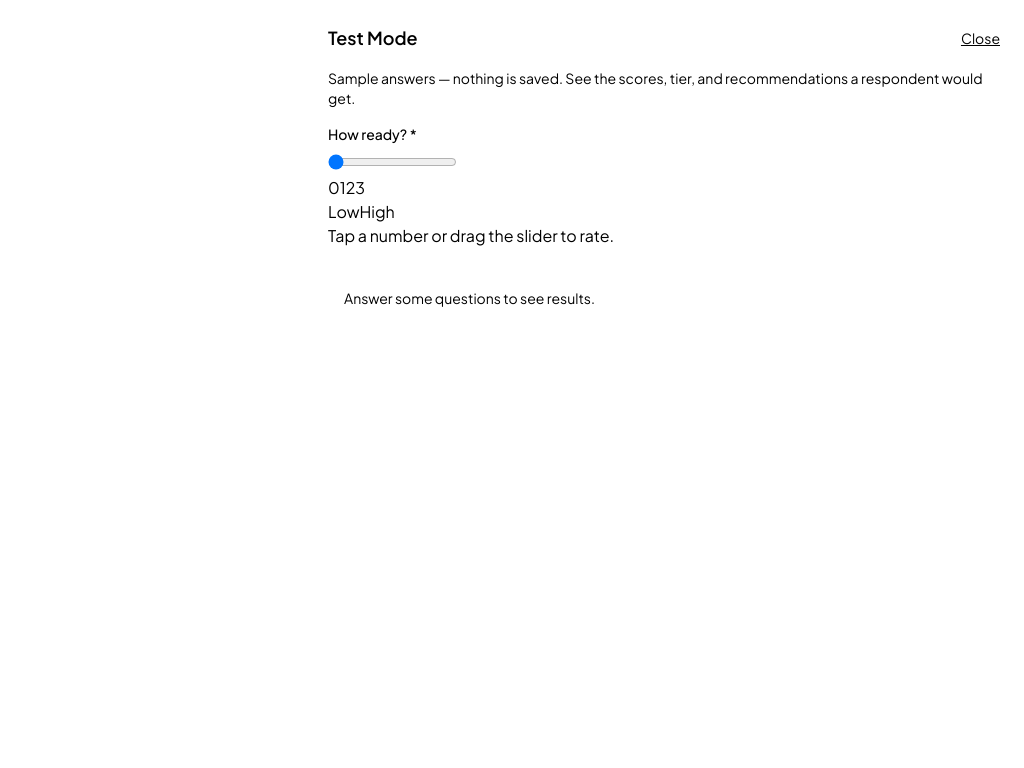
it: TestModeDrawer › renders the scored result after answering (full pipeline, ResultPanel fields)
// The real slider widget renders tap-to-set buttons labelled "Set rating to N".
Click the button named "Set rating to 3": point(360, 188) left=355, top=176, right=365, bottom=200
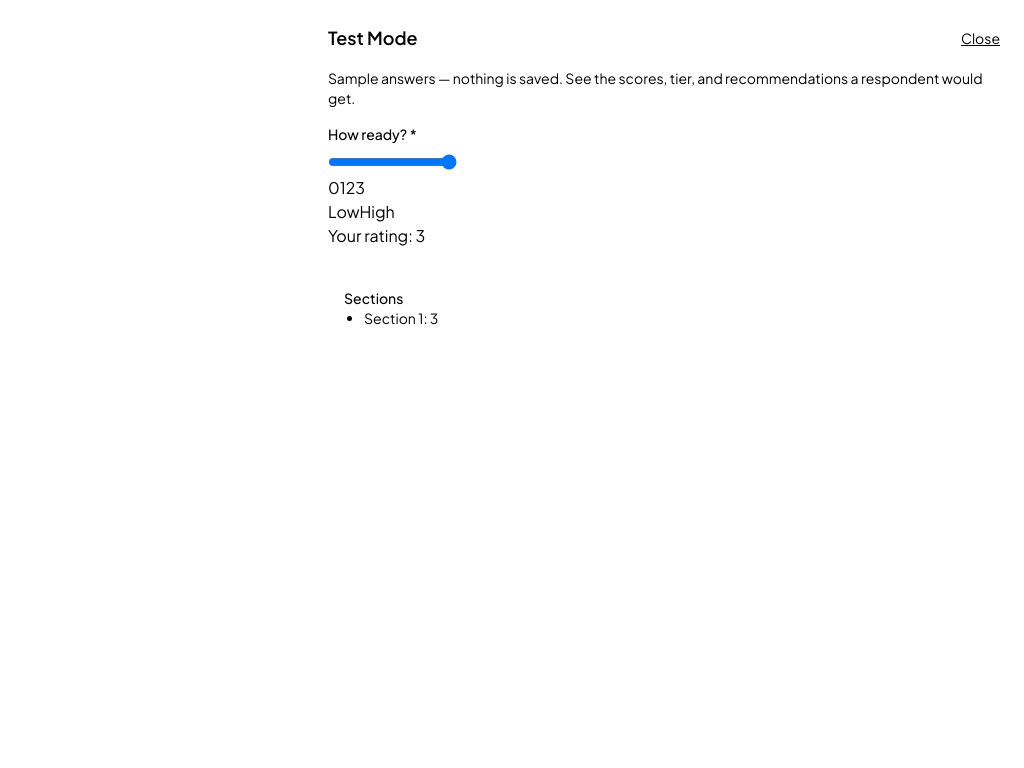
Result: the text "Sections" is shown at left=344, top=289, right=403, bottom=307
Result: the list item "Section 1: 3" is shown at left=364, top=309, right=438, bottom=327
